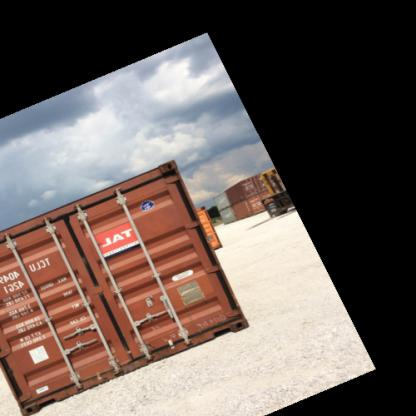Damage: (108, 330, 140, 358)
